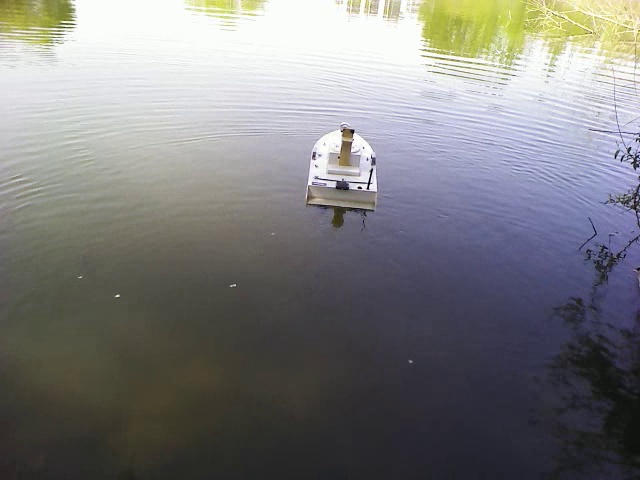boat: (304, 119, 382, 215)
